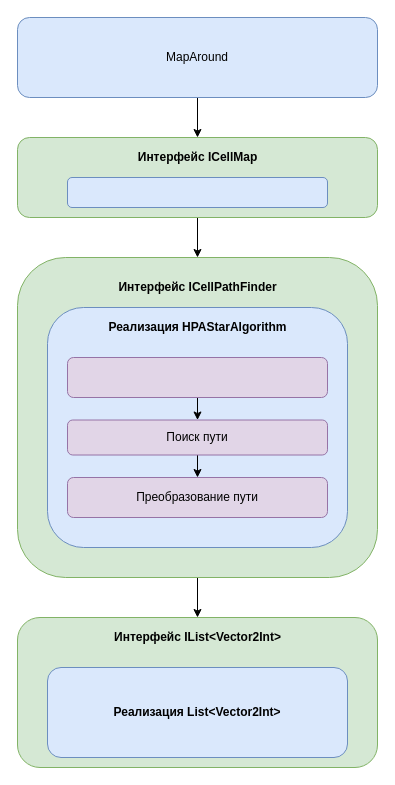
This 395x785 diagram has some shape labels left out. The shapes that lost their labels are listed below. From the top down, each one's box as (x1, y1, x2, y2) in pixels, then its label:
(66, 176, 328, 208): Реализация MapAroundCellMap
(66, 356, 328, 398): Преобразование дискретного рабочего пространства
